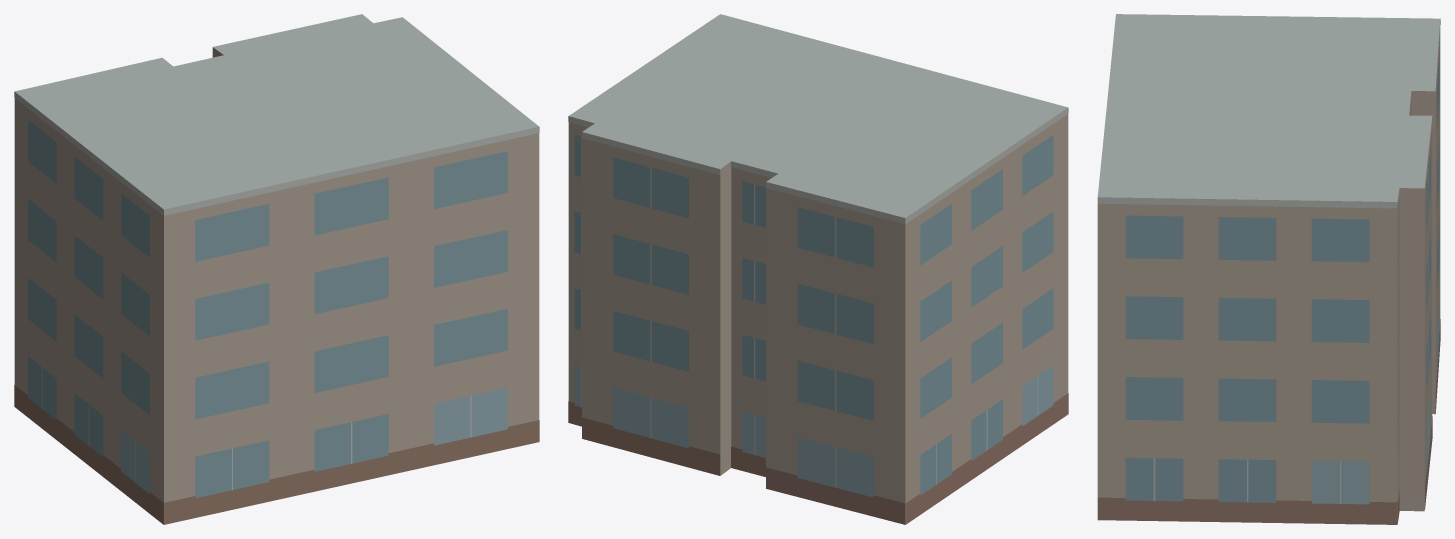
The model's file is survey-upis-32654643.glb.
3 renders of one model, left to right at view 1: azimuth 30°, elevation 25°; view 2: azimuth 150°, elevation 25°; view 3: azimuth 270°, elevation 25°, orthographic. The views are drawn at different scales.
Parts seen in each view (by area): view 1: survey-upis-32654643.tmp; view 2: survey-upis-32654643.tmp; view 3: survey-upis-32654643.tmp.
Boxes of the visible parts, x1,y1,x2,y2 form: survey-upis-32654643.tmp: (14,14,539,524); survey-upis-32654643.tmp: (568,14,1068,524); survey-upis-32654643.tmp: (1097,14,1440,524).
Size of the model in its own units: 15.25 by 12.2 by 11.75.
